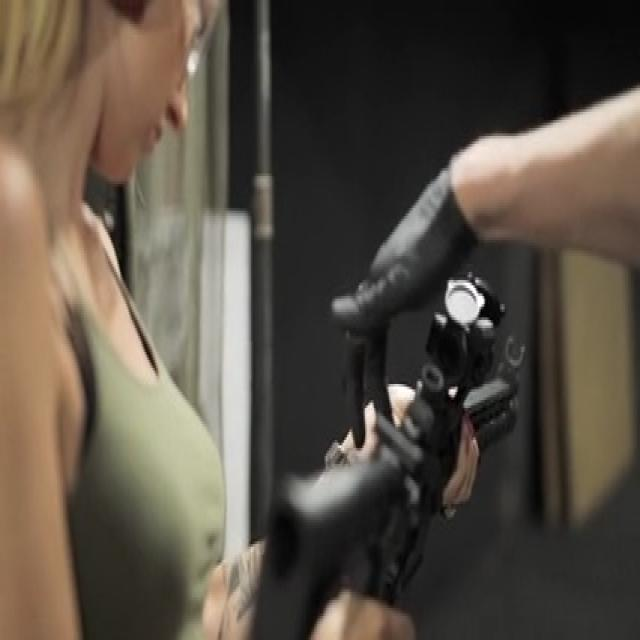Gun_Holder: (214, 239, 628, 640)
Person: (0, 0, 412, 640)
